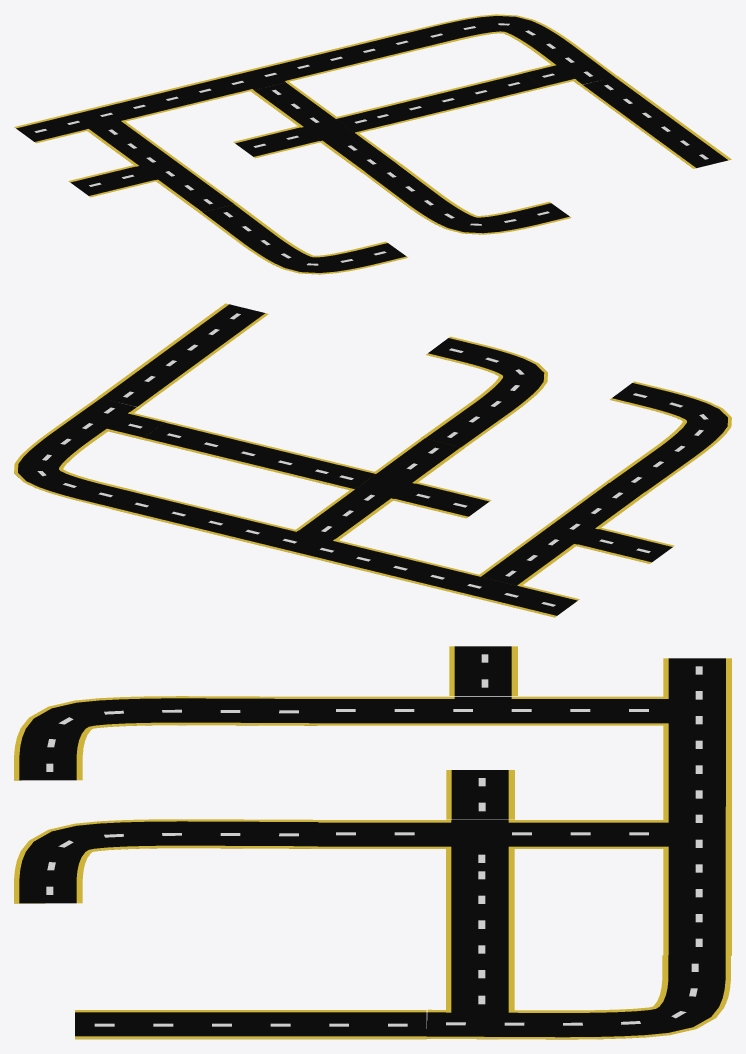
File: road.dae
3 renders of one model, top to bottom at view 1: azimuth 30°, elevation 25°; view 2: azimuth 150°, elevation 25°; view 3: azimuth 270°, elevation 25°, orthographic. The views are drawn at different scales.
Parts seen in each view (by area): view 1: road_piece.012, road_piece.010, road_piece.008, road_piece.001, road_piece.006, road_piece.004, road_piece.005, road_piece.002, road_piece.003, road_piece.007, road_piece.009, road_piece.014 (+1 smaller); view 2: road_piece.012, road_piece.010, road_piece.008, road_piece.001, road_piece.006, road_piece.004, road_piece.005, road_piece.002, road_piece.003, road_piece.007, road_piece.009, road_piece.011 (+1 smaller); view 3: road_piece.012, road_piece.010, road_piece.008, road_piece.006, road_piece.004, road_piece.001, road_piece.005, road_piece.002, road_piece.003, road_piece.009, road_piece.007, road_piece.014 (+1 smaller).
Boxes of the visible parts, x1,y1,x2,y2 form: road_piece.012: [362, 163, 571, 234]; road_piece.010: [199, 203, 407, 274]; road_piece.008: [408, 14, 617, 85]; road_piece.001: [211, 31, 429, 95]; road_piece.006: [580, 76, 731, 168]; road_piece.004: [85, 120, 237, 212]; road_piece.005: [14, 79, 232, 143]; road_piece.002: [250, 82, 400, 172]; road_piece.003: [367, 72, 572, 125]; road_piece.007: [68, 165, 155, 197]; road_piece.009: [233, 126, 320, 158]; road_piece.014: [334, 109, 388, 133]; road_piece.012: [421, 336, 547, 448]; road_piece.010: [606, 381, 731, 492]; road_piece.008: [14, 397, 140, 508]; road_piece.001: [111, 491, 357, 563]; road_piece.006: [97, 303, 268, 407]; road_piece.004: [478, 482, 648, 586]; road_piece.005: [333, 545, 579, 617]; road_piece.002: [296, 437, 464, 540]; road_piece.003: [110, 421, 340, 481]; road_piece.007: [576, 527, 674, 563]; road_piece.009: [392, 482, 491, 518]; road_piece.011: [105, 412, 166, 439]; road_piece.012: [14, 819, 318, 903]; road_piece.010: [14, 696, 316, 780]; road_piece.008: [426, 955, 730, 1039]; road_piece.006: [75, 1010, 426, 1039]; road_piece.004: [317, 696, 668, 725]; road_piece.001: [663, 806, 731, 955]; road_piece.005: [663, 658, 731, 806]; road_piece.002: [317, 820, 663, 848]; road_piece.003: [446, 871, 514, 987]; road_piece.009: [446, 770, 514, 819]; road_piece.007: [449, 646, 517, 695]; road_piece.014: [446, 846, 514, 871].
Bounding box in the file's own units: 77.92 × 60.26 × 0.09.
